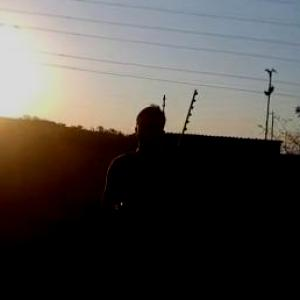follow: (92, 100, 180, 299)
